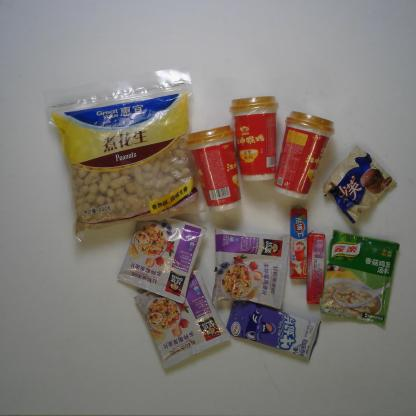Candy: (224, 301, 323, 364), (286, 205, 310, 281), (305, 228, 327, 306)
Dessert: (322, 143, 399, 226)
Dried Food: (42, 64, 209, 251)
Instant Drink: (132, 266, 233, 372), (114, 218, 210, 306), (210, 227, 291, 311), (273, 108, 337, 203), (185, 123, 243, 214), (228, 94, 282, 184)
Seasoner: (318, 228, 402, 328)
